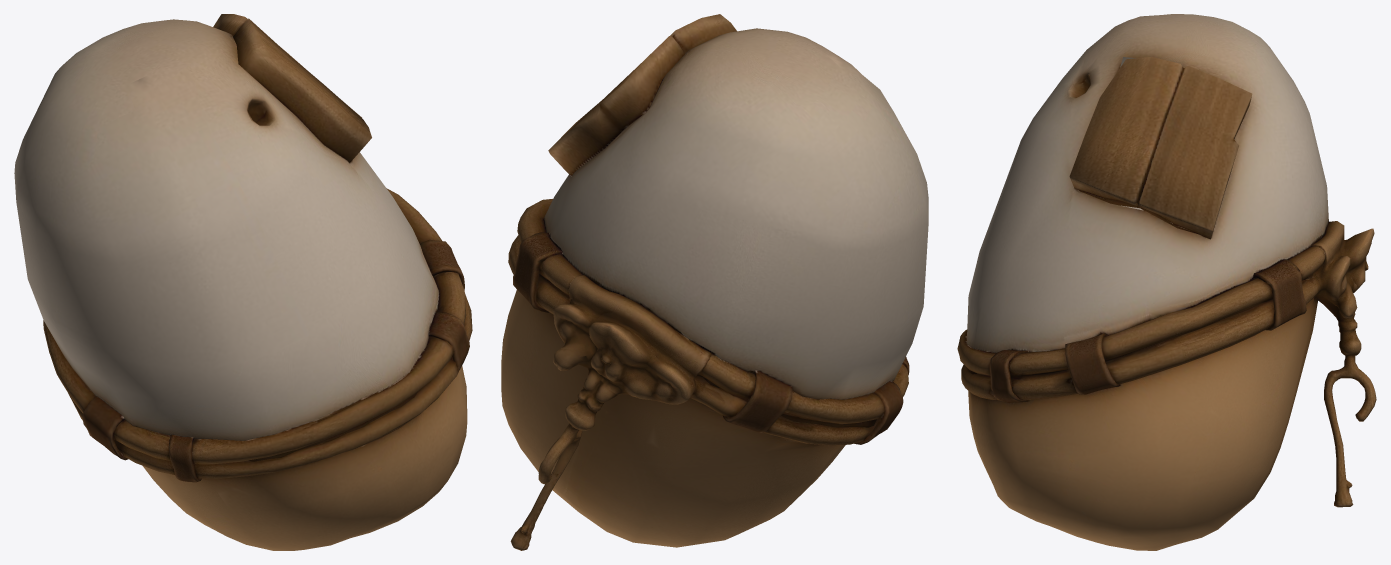
Rendered from tripo_convert_939fec23-d3f6-4750-ae2d-7ff01f60ceca.fbx.
The picture shows the model from 3 angles, left to right: view 1: azimuth 30°, elevation 25°; view 2: azimuth 150°, elevation 25°; view 3: azimuth 270°, elevation 25°; orthographic projection. The views are drawn at different scales.
Visible parts, largest first — view 1: tripo_node_939fec23; view 2: tripo_node_939fec23; view 3: tripo_node_939fec23.
Boxes of the visible parts, x1,y1,x2,y2 form: tripo_node_939fec23: [14, 14, 472, 550]; tripo_node_939fec23: [501, 14, 928, 550]; tripo_node_939fec23: [957, 14, 1376, 550].
Size of the model in its own units: 0.8027 by 0.998 by 0.8105.
1 material, 1 textured.
